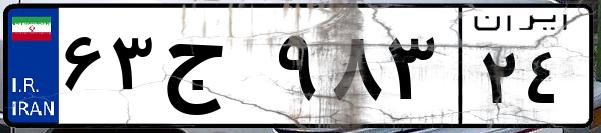2: (475, 38, 525, 113)
3: (385, 28, 445, 110), (110, 28, 158, 98)
4: (525, 38, 570, 115)
6: (57, 26, 110, 100)
8: (330, 28, 385, 110)
9: (270, 28, 330, 110)
ج: (158, 20, 270, 120)
